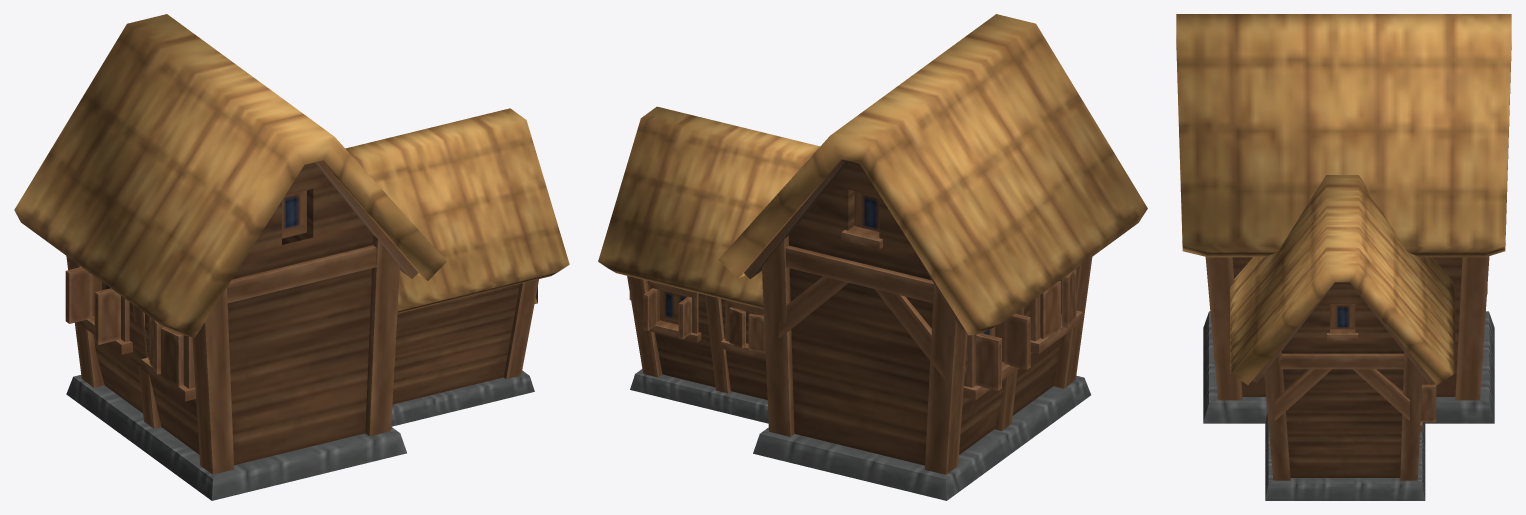
File: tadangal_house_3.FBX
The picture shows the model from 3 angles, left to right: view 1: azimuth 30°, elevation 25°; view 2: azimuth 150°, elevation 25°; view 3: azimuth 270°, elevation 25°; orthographic projection.
Visible parts, largest first — view 1: polySurface1253; view 2: polySurface1253; view 3: polySurface1253.
Boxes of the visible parts, x1=… form: polySurface1253: x1=14, y1=14, x2=569, y2=500; polySurface1253: x1=598, y1=14, x2=1147, y2=500; polySurface1253: x1=1176, y1=14, x2=1511, y2=500.
Bounding box in the file's own units: 112 × 76.21 × 87.31.
